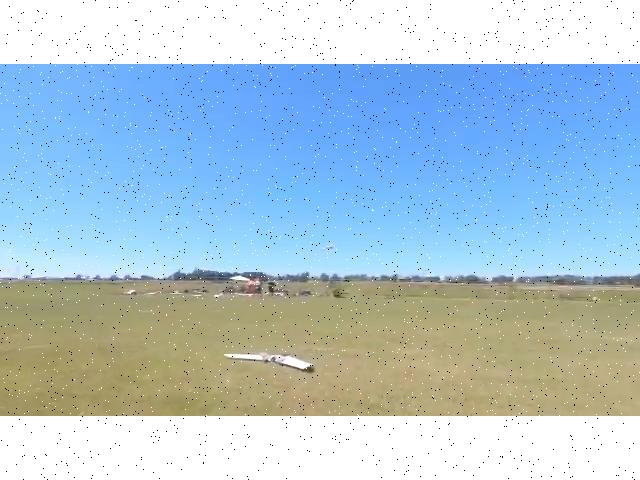Anti-Drone: (217, 346, 319, 374)
